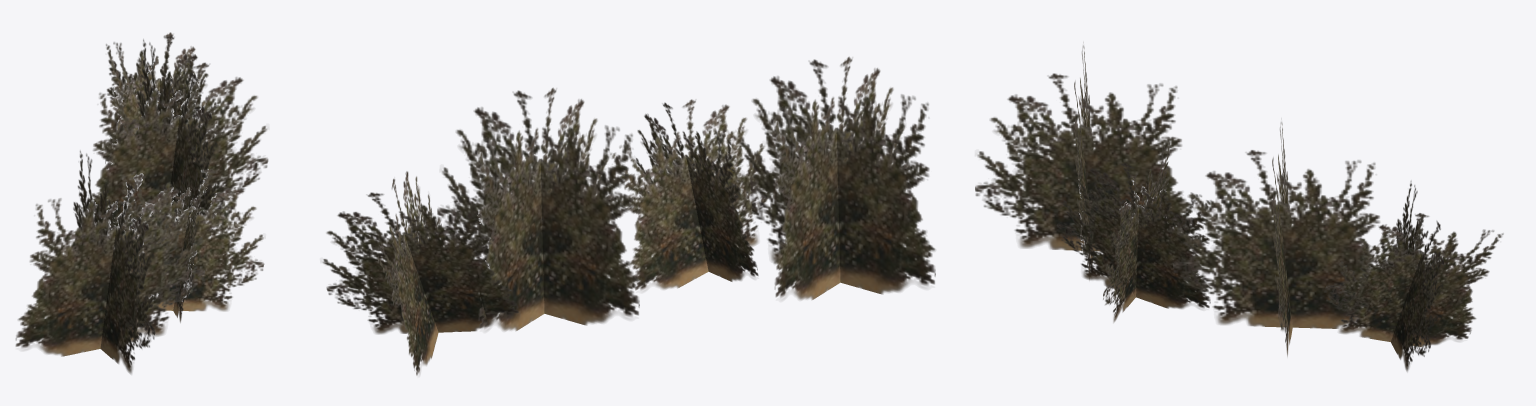
The model's file is 0208worlddeserttransparent_worlddeserttransparentmaterial_0_lev.glb.
The picture shows the model from 3 angles, left to right: view 1: azimuth 30°, elevation 25°; view 2: azimuth 150°, elevation 25°; view 3: azimuth 270°, elevation 25°; orthographic projection. The views are drawn at different scales.
Parts seen in each view (by area): view 1: 0208worlddeserttransparent_worlddeserttransparentmaterial_0_; view 2: 0208worlddeserttransparent_worlddeserttransparentmaterial_0_; view 3: 0208worlddeserttransparent_worlddeserttransparentmaterial_0_.
Part boxes in pixels (bbox=[...]): 0208worlddeserttransparent_worlddeserttransparentmaterial_0_: bbox=[15, 32, 268, 374]; 0208worlddeserttransparent_worlddeserttransparentmaterial_0_: bbox=[322, 56, 935, 375]; 0208worlddeserttransparent_worlddeserttransparentmaterial_0_: bbox=[975, 42, 1503, 371].
Bounding box in the file's own units: 1.29 × 0.6692 × 1.58.
1 material, 1 textured.
